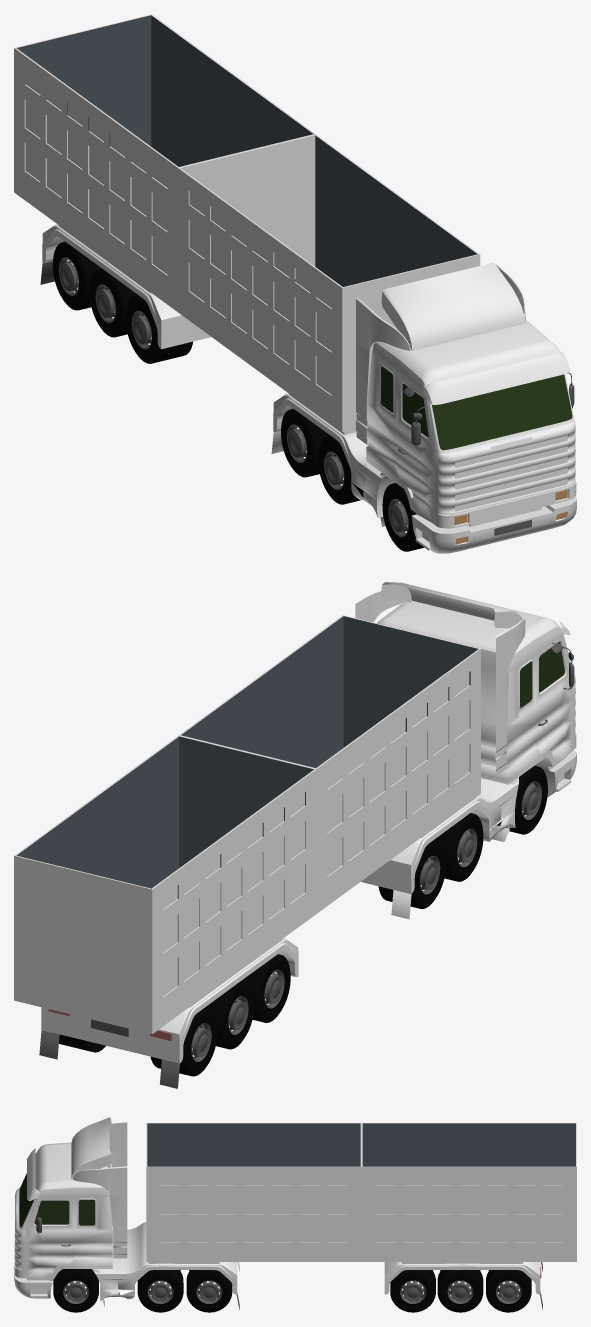
The model's file is car14.glb.
The picture shows the model from 3 angles, top to bottom: view 1: azimuth 30°, elevation 25°; view 2: azimuth 150°, elevation 25°; view 3: azimuth 270°, elevation 25°; orthographic projection. The views are drawn at different scales.
Parts seen in each view (by area): view 1: ~14___Default_materialGroup_15, VehicleBody, obj25~14Trailer12_materialGroup_17, obj17~14Trailer11_materialGroup_14, ~14Trailer11_materialGroup_16, obj16~14Trailer10_materialGroup_13, obj4~Material__32_materialGroup_4, obj14~14Trailer08_materialGroup_11, ~14Trailer12_materialGroup_18, ~??_13_materialGroup_20, obj49~_____21_materialGroup_27, obj31~_____21_materialGroup_19 (+6 smaller); view 2: ~14___Default_materialGroup_15, obj25~14Trailer12_materialGroup_17, obj17~14Trailer11_materialGroup_14, ~14Trailer11_materialGroup_16, VehicleBody, obj16~14Trailer10_materialGroup_13, ~??_13_materialGroup_20, obj55~_____21_materialGroup_29, obj34~_____21_materialGroup_22, obj37~_____21_materialGroup_23, obj4~Material__32_materialGroup_4, ~??_10_materialGroup_9 (+6 smaller); view 3: ~14Trailer12_materialGroup_18, ~14Trailer11_materialGroup_16, ~14___Default_materialGroup_15, VehicleBody, obj16~14Trailer10_materialGroup_13, ~??_13_materialGroup_20, obj4~Material__32_materialGroup_4, obj64~_____21_materialGroup_32, obj43~_____21_materialGroup_25, obj40~_____21_materialGroup_24, obj58~_____21_materialGroup_30, obj46~_____21_materialGroup_26 (+3 smaller).
Boxes of the visible parts, <box> form: ~14___Default_materialGroup_15: <box>16,15,477,286</box>; VehicleBody: <box>356,262,576,528</box>; obj25~14Trailer12_materialGroup_17: <box>178,168,342,432</box>; obj17~14Trailer11_materialGroup_14: <box>14,48,178,311</box>; ~14Trailer11_materialGroup_16: <box>14,14,315,279</box>; obj16~14Trailer10_materialGroup_13: <box>42,224,576,553</box>; obj4~Material__32_materialGroup_4: <box>381,366,572,450</box>; obj14~14Trailer08_materialGroup_11: <box>45,236,567,552</box>; ~14Trailer12_materialGroup_18: <box>179,134,480,432</box>; ~??_13_materialGroup_20: <box>58,257,408,537</box>; obj49~_____21_materialGroup_27: <box>281,408,331,477</box>; obj31~_____21_materialGroup_19: <box>52,241,103,310</box>; ~14___Default_materialGroup_15: <box>17,616,478,898</box>; obj25~14Trailer12_materialGroup_17: <box>316,649,480,913</box>; obj17~14Trailer11_materialGroup_14: <box>151,769,316,1033</box>; ~14Trailer11_materialGroup_16: <box>14,735,316,1033</box>; VehicleBody: <box>355,582,576,784</box>; obj16~14Trailer10_materialGroup_13: <box>41,750,576,1063</box>; ~??_13_materialGroup_20: <box>191,781,541,1061</box>; obj55~_____21_materialGroup_29: <box>434,813,483,881</box>; obj34~_____21_materialGroup_22: <box>205,980,254,1049</box>; obj37~_____21_materialGroup_23: <box>239,954,290,1022</box>; obj4~Material__32_materialGroup_4: <box>520,642,571,707</box>; ~??_10_materialGroup_9: <box>39,642,574,1088</box>; ~14Trailer12_materialGroup_18: <box>146,1123,361,1261</box>; ~14Trailer11_materialGroup_16: <box>361,1123,576,1261</box>; ~14___Default_materialGroup_15: <box>147,1123,575,1166</box>; VehicleBody: <box>14,1117,127,1278</box>; obj16~14Trailer10_materialGroup_13: <box>14,1222,540,1300</box>; ~??_13_materialGroup_20: <box>63,1280,521,1303</box>; obj4~Material__32_materialGroup_4: <box>20,1173,95,1226</box>; obj64~_____21_materialGroup_32: <box>53,1269,98,1312</box>; obj43~_____21_materialGroup_25: <box>437,1270,483,1312</box>; obj40~_____21_materialGroup_24: <box>486,1270,531,1312</box>; obj58~_____21_materialGroup_30: <box>137,1270,183,1312</box>; obj46~_____21_materialGroup_26: <box>390,1270,435,1312</box>.
Size of the model in its own units: 2.86 by 4.04 by 13.13.
